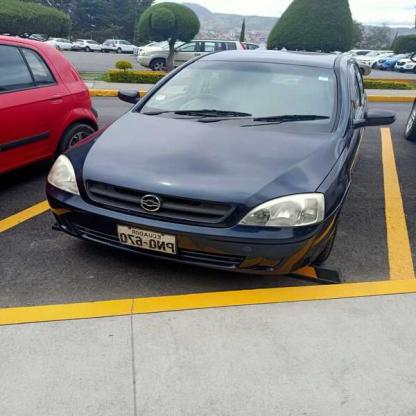Placa: (113, 224, 180, 256)
